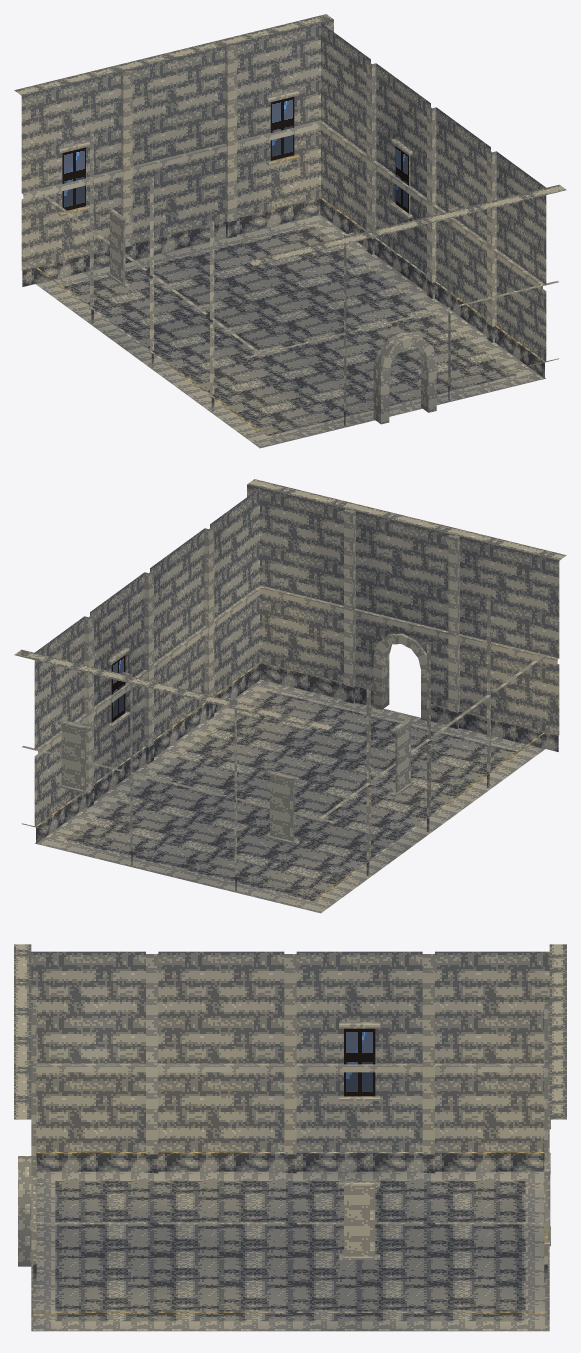
Rendered from cst.hall__throne.glb.
3 views of the same model, one above another, from view 1: azimuth 30°, elevation 25°; view 2: azimuth 150°, elevation 25°; view 3: azimuth 270°, elevation 25° (orthographic). The views are drawn at different scales.
Visible parts, largest first — view 1: kit_shell_walls, kit_shell_floor, kit_fittings; view 2: kit_shell_walls, kit_shell_floor, kit_fittings; view 3: kit_shell_walls, kit_shell_floor, kit_fittings.
Part boxes in pixels (x1,y1,x2,y2): kit_shell_walls: [14, 14, 566, 434]; kit_shell_floor: [36, 214, 545, 448]; kit_fittings: [58, 90, 436, 424]; kit_shell_walls: [14, 479, 566, 899]; kit_shell_floor: [35, 679, 544, 913]; kit_fittings: [57, 633, 426, 845]; kit_shell_walls: [14, 944, 566, 1319]; kit_shell_floor: [31, 1171, 549, 1331]; kit_fittings: [18, 1022, 550, 1266].
Bounding box in the file's own units: 12 × 7 × 16.
Materials: 5 (5 with a texture image).
